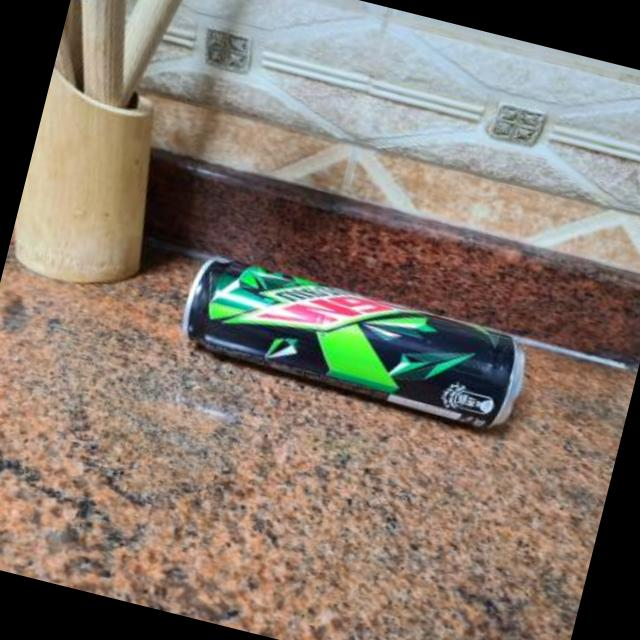metal: (186, 258, 526, 424)
